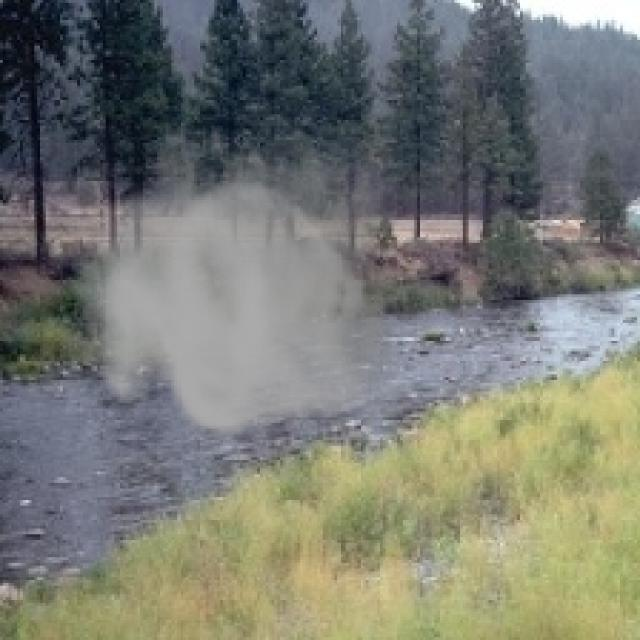smoke: (69, 86, 414, 440)
